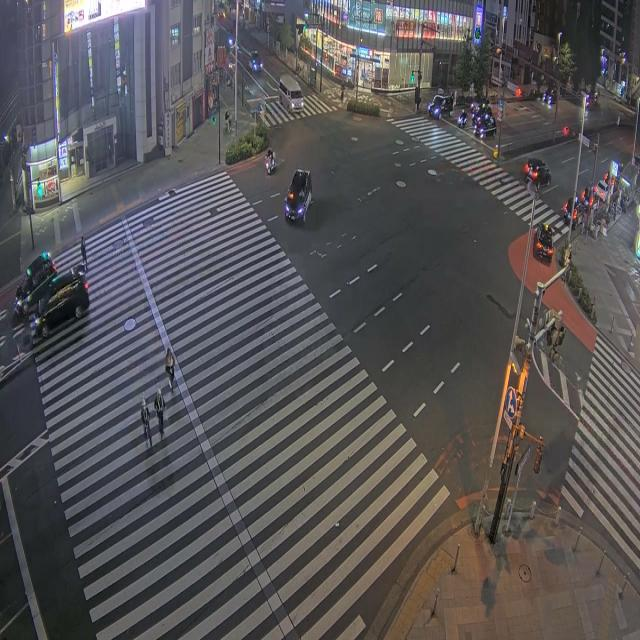car: (30, 280, 88, 342), (14, 252, 56, 317), (24, 267, 83, 313), (27, 266, 84, 311), (284, 169, 311, 222), (524, 158, 550, 187), (534, 224, 553, 262), (561, 197, 583, 228), (427, 95, 452, 119), (473, 117, 496, 139), (471, 103, 491, 119), (250, 51, 262, 72), (594, 181, 606, 201), (542, 88, 556, 105), (586, 92, 598, 110)
motorcycle: (265, 155, 274, 175), (457, 112, 466, 128)
van: (278, 75, 302, 112)
